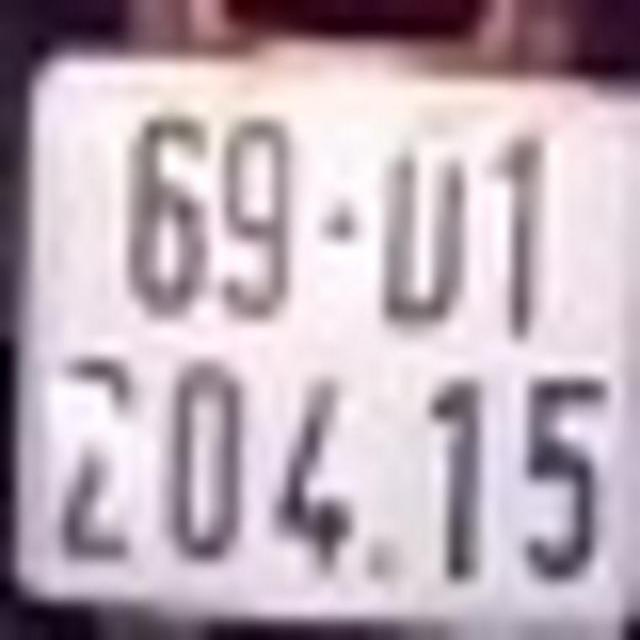0: (173, 352, 254, 561)
1: (428, 364, 496, 586), (492, 128, 558, 351)
2: (42, 345, 143, 570)
4: (278, 376, 360, 580)
5: (528, 364, 621, 584)
6: (121, 104, 218, 324)
9: (222, 106, 302, 337)
U: (376, 140, 479, 332)
